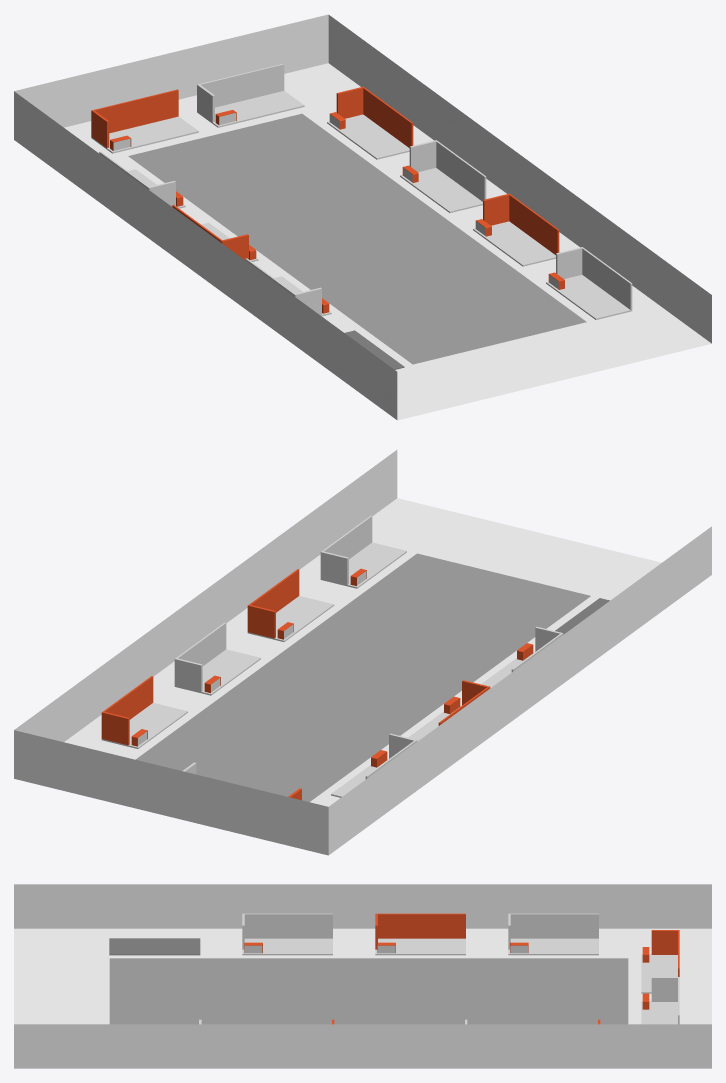
File: hall layout.glb
The picture shows the model from 3 angles, top to bottom: view 1: azimuth 30°, elevation 25°; view 2: azimuth 150°, elevation 25°; view 3: azimuth 270°, elevation 25°; orthographic projection. The views are drawn at different scales.
Parts seen in each view (by area): view 1: Cube.003, Plane, Cube.028, Cube.031, Cube.047, Cube.044, Cube.039, Cube.036, Cube.049, Cube.042, Cube.041, Cube.034 (+5 smaller); view 2: Cube.003, Plane, Cube.044, Cube.036, Cube.039, Cube.047, Cube.049, Cube.042, Cube.034, Cube.041; view 3: Cube.003, Plane, Cube.006, Cube.023, Cube.020, Cube, Cube.018, Cube.008, Cube.025, Cube.026, Cube.033, Cube.031 (+1 smaller).
Boxes of the visible parts, box(x1,y1,x2,y2) form: Cube.003: box(14, 14, 711, 420); Plane: box(128, 113, 586, 364); Cube.028: box(91, 89, 178, 147); Cube.031: box(197, 63, 284, 122); Cube.047: box(336, 86, 413, 147); Cube.044: box(409, 140, 486, 201); Cube.039: box(556, 247, 632, 309); Cube.036: box(483, 193, 559, 254); Cube.049: box(327, 114, 409, 159); Cube.042: box(400, 168, 482, 212); Cube.041: box(546, 275, 632, 319); Cube.034: box(473, 221, 555, 266); Cube.003: box(14, 450, 711, 855); Plane: box(135, 553, 590, 801); Cube.044: box(174, 622, 226, 691); Cube.036: box(247, 569, 299, 638); Cube.039: box(320, 515, 372, 584); Cube.047: box(101, 676, 153, 745); Cube.049: box(101, 703, 187, 748); Cube.042: box(174, 649, 260, 695); Cube.034: box(247, 596, 334, 641); Cube.041: box(320, 542, 406, 588); Cube.003: box(14, 884, 711, 1068); Plane: box(109, 958, 628, 1024); Cube.006: box(242, 913, 332, 949); Cube.023: box(375, 913, 465, 949); Cube.020: box(508, 913, 598, 949); Cube: box(109, 938, 200, 955); Cube.018: box(508, 938, 598, 955); Cube.008: box(242, 938, 332, 955); Cube.025: box(375, 938, 465, 955); Cube.026: box(641, 954, 677, 993); Cube.033: box(641, 1001, 677, 1024); Cube.031: box(651, 977, 679, 1024).
Bounding box in the file's own units: 73.41 × 11.01 × 155.
